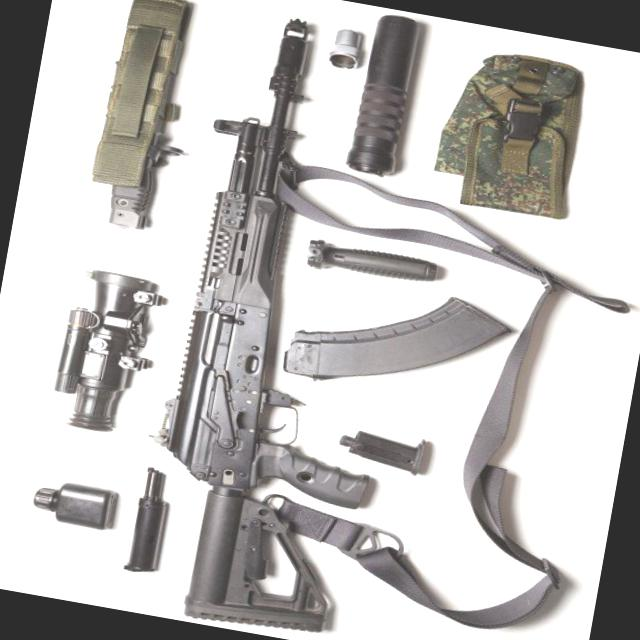long weapon: (121, 10, 449, 639)
